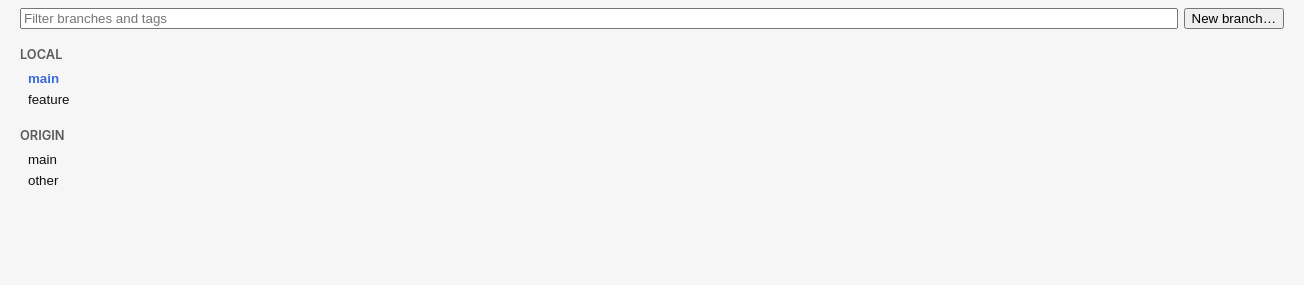
Scenario: BranchesPanel activation › should clear the failure alert on Dismiss
Check: the heading "Local" is shown, box [20,47,62,62]
Double-click the button titled "refs/heads/feature".
double_click(49, 100)  # box [12,89,1292,110]
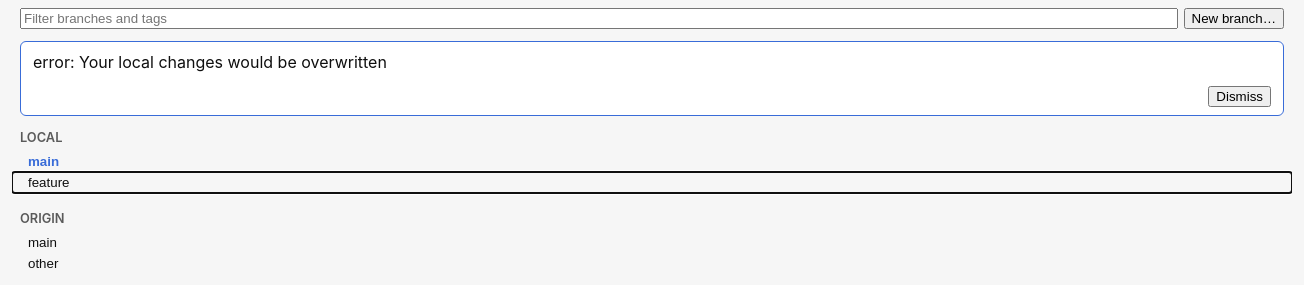
Click the button "Dismiss".
click(1240, 96)  # box [1208,86,1271,107]
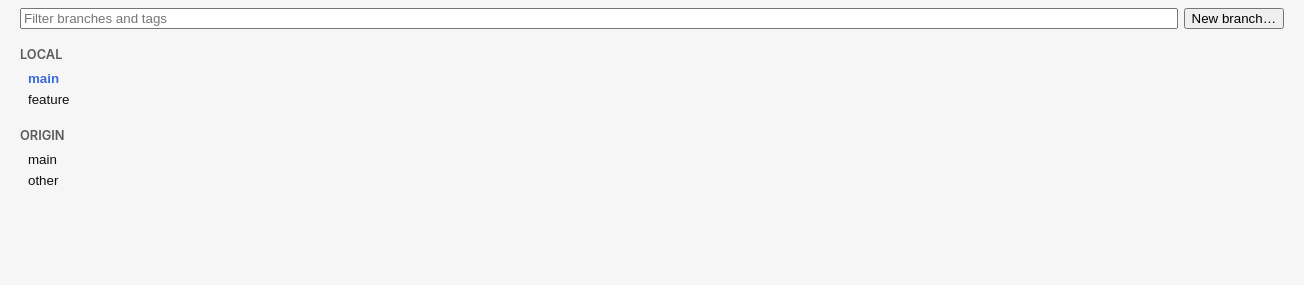
Check: the message "error: Your local changes would be overwritten Dismiss" is gone
